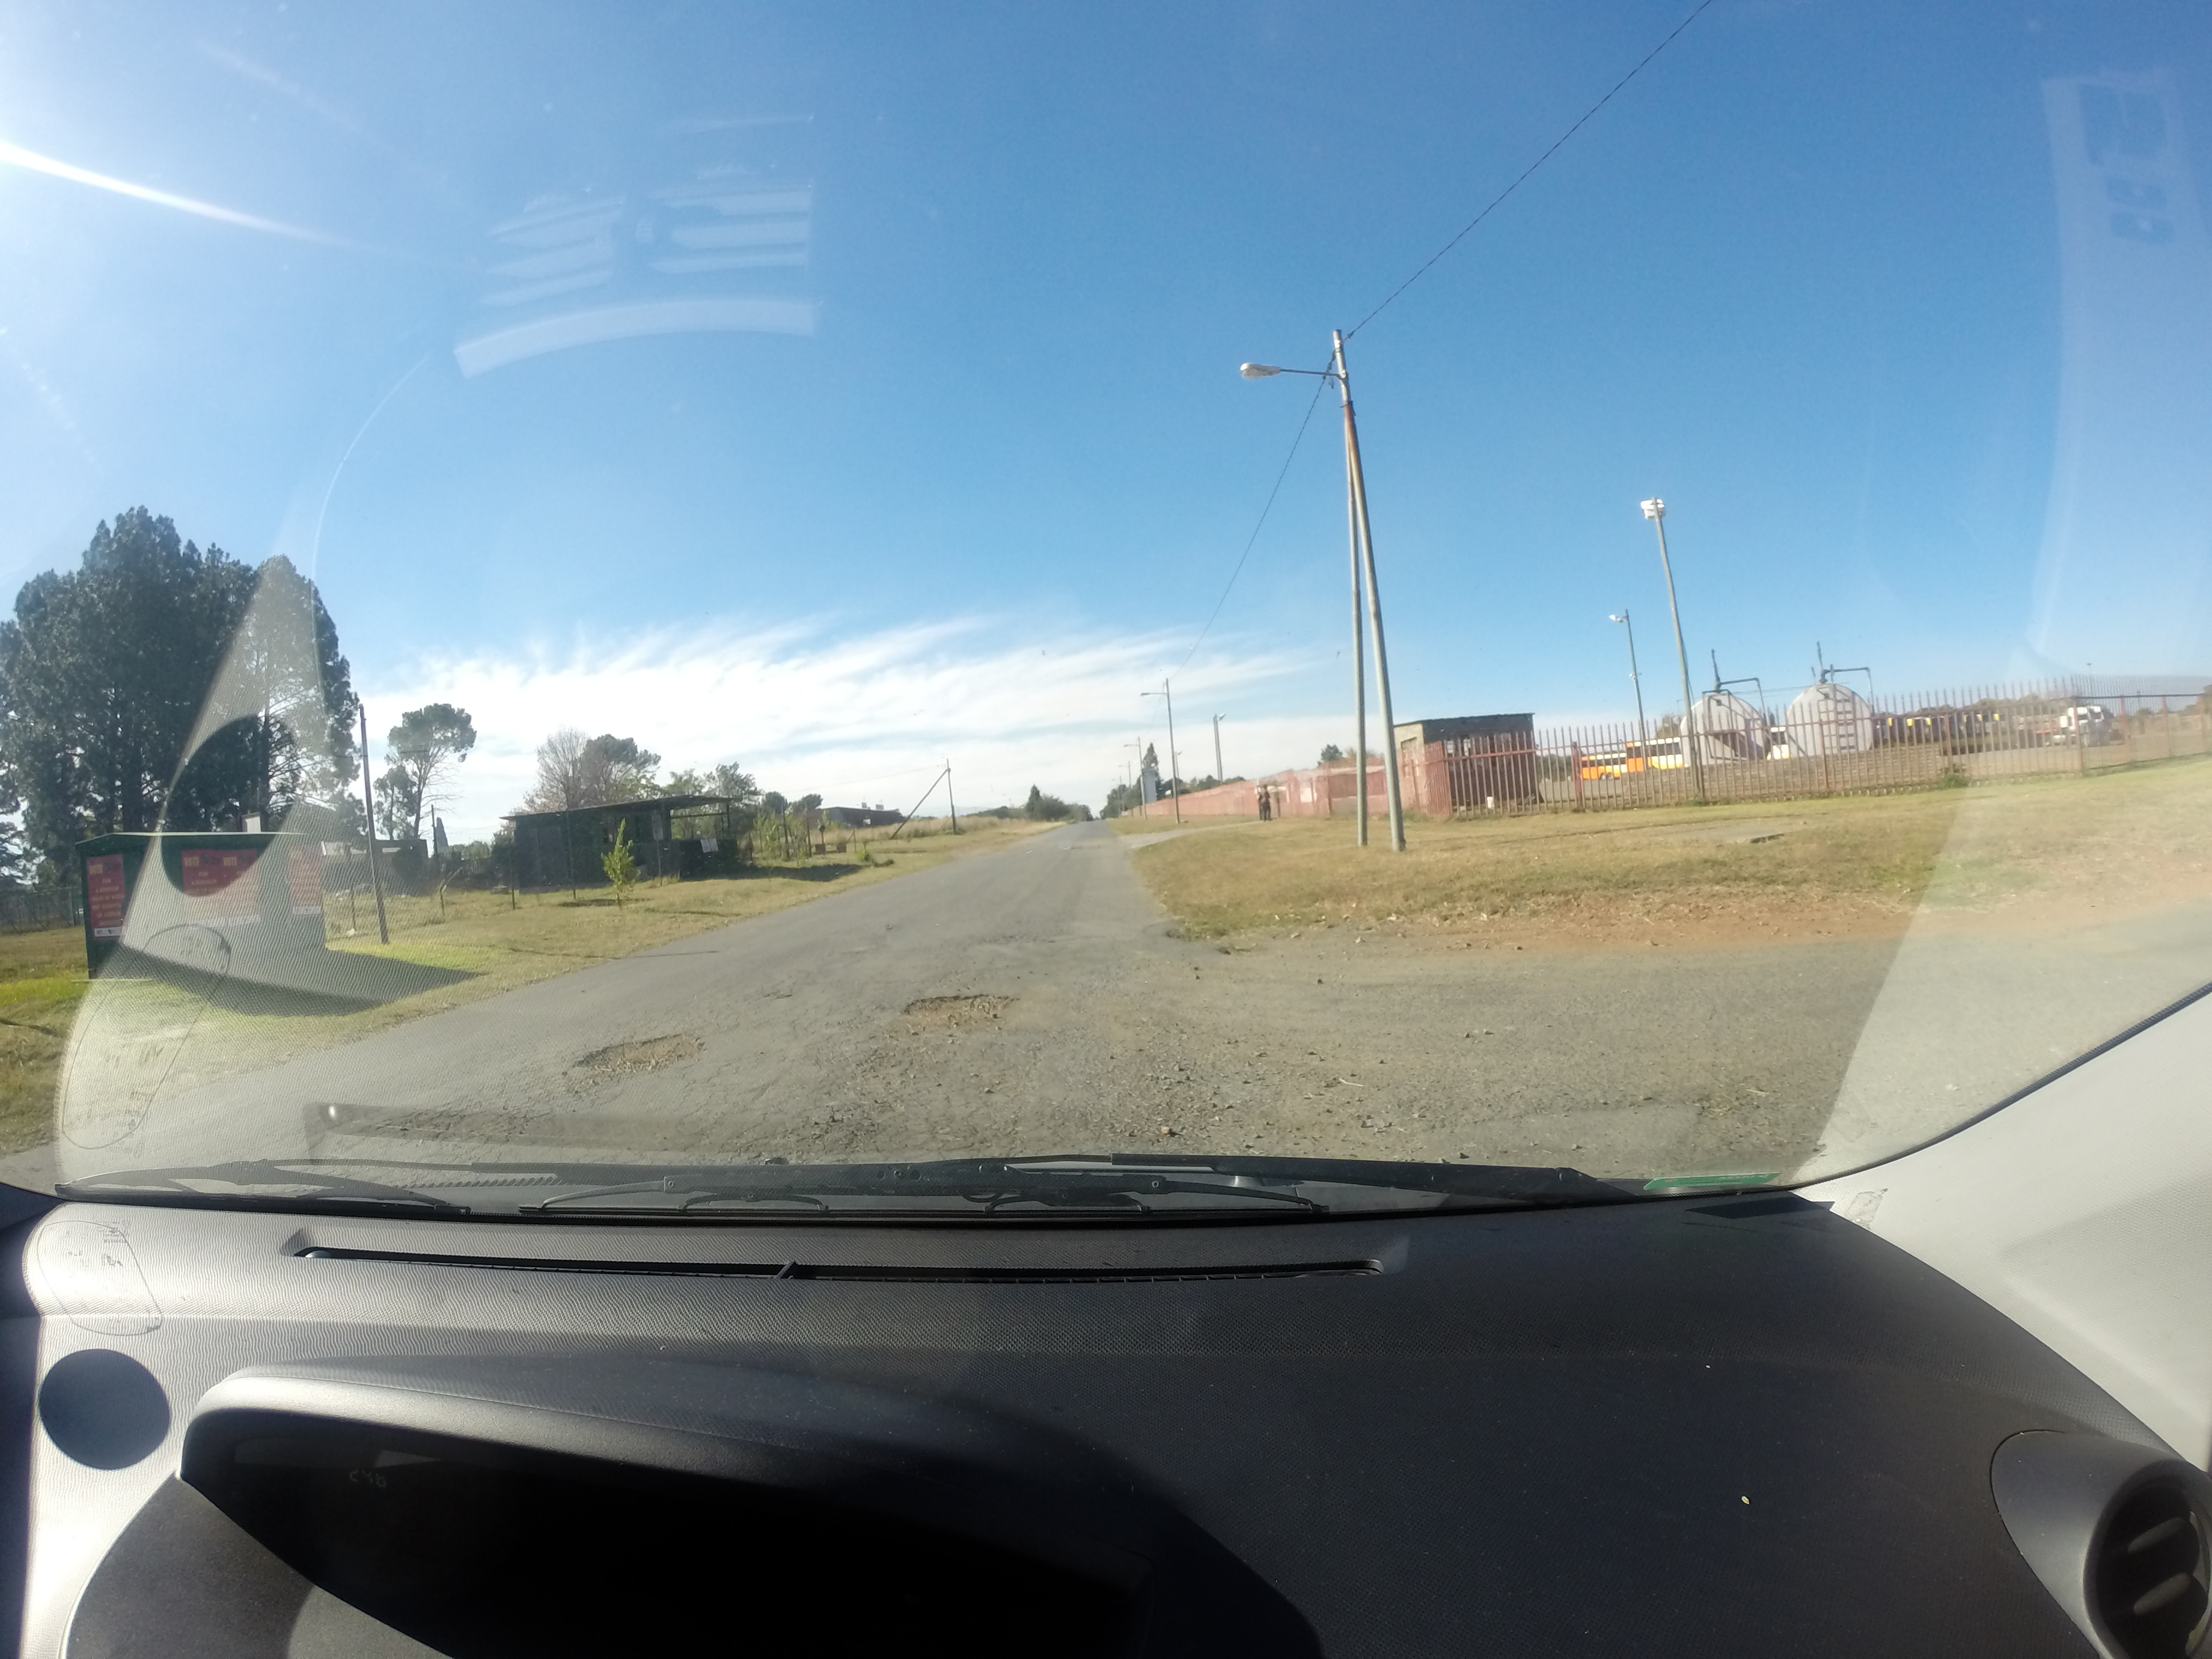pothole: (516, 983, 794, 1112), (862, 945, 1052, 1068)
